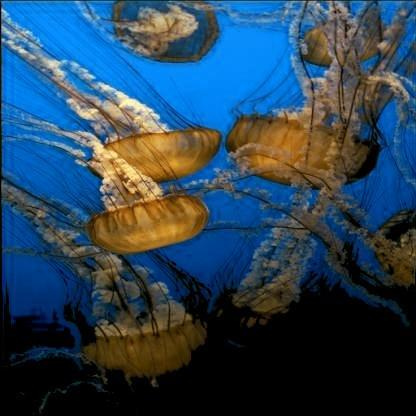Dressed: (5, 191, 223, 390), (3, 12, 217, 186), (43, 117, 210, 255), (226, 83, 385, 187), (212, 208, 324, 348), (227, 1, 387, 71), (92, 0, 221, 64), (345, 205, 413, 311)
